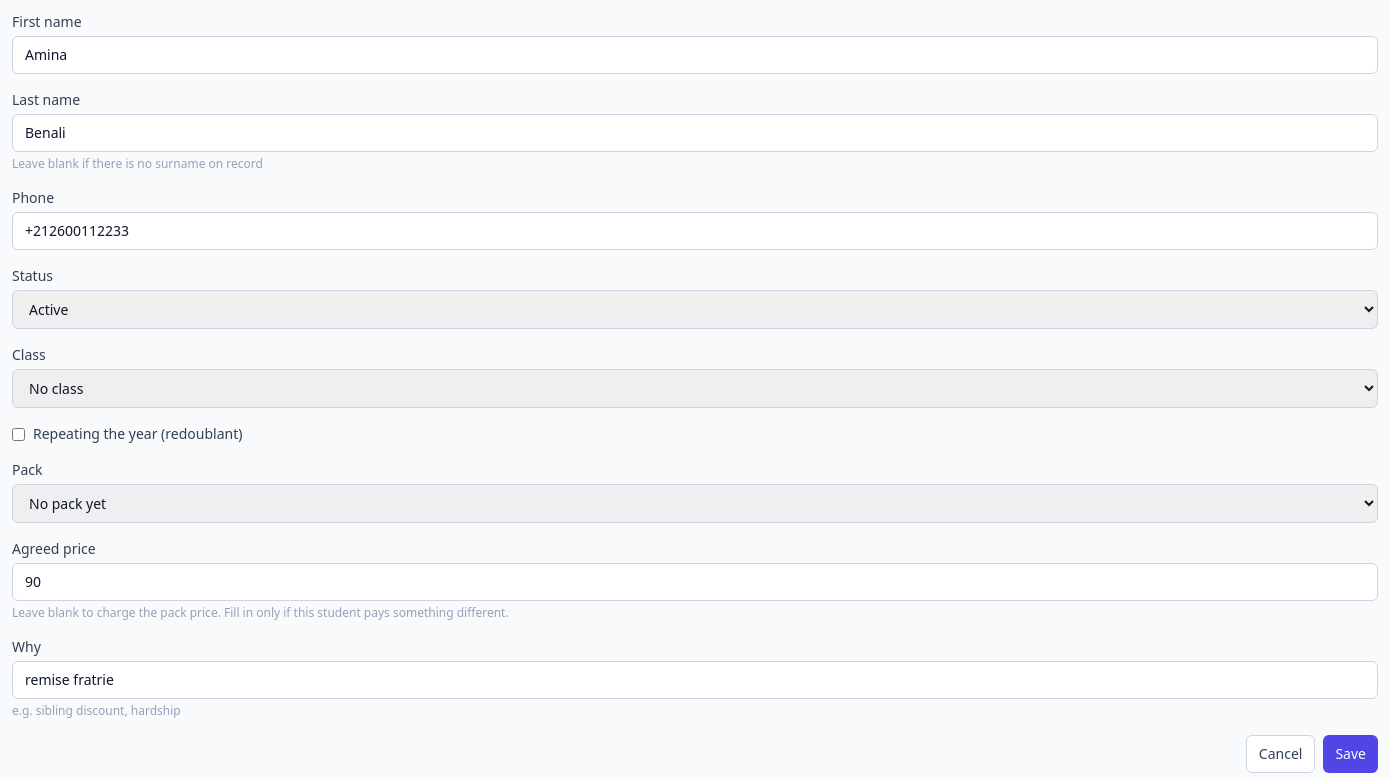
Test: EditStudentForm › only asks why when there is an agreed price to explain
expect the field labelled "Why" is shown: met, box [12,661,1378,699]
Clear the field labelled "Agreed price" at (695, 582), box [12,563,1378,601]
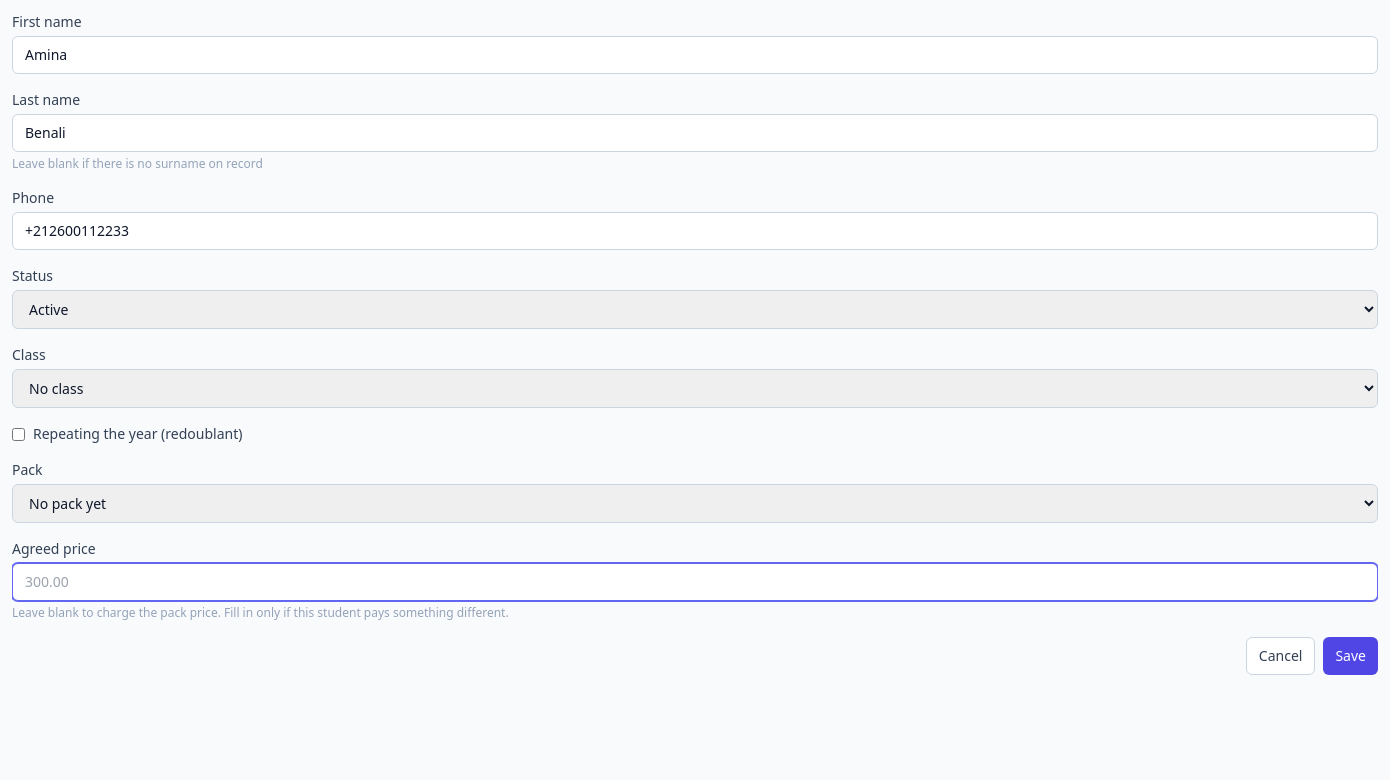
expect the label labelled "Why" is gone: met
